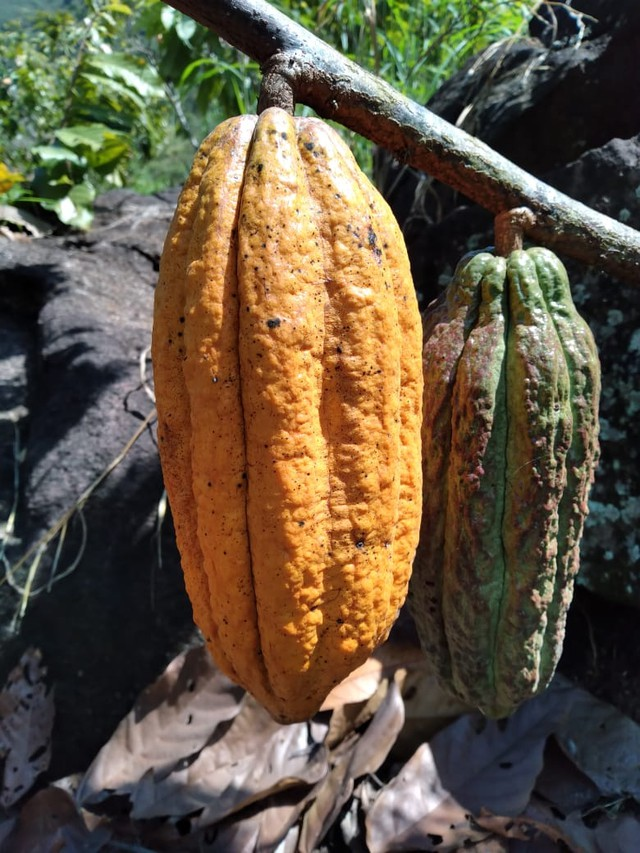Health: (142, 104, 432, 729), (407, 232, 614, 728)
